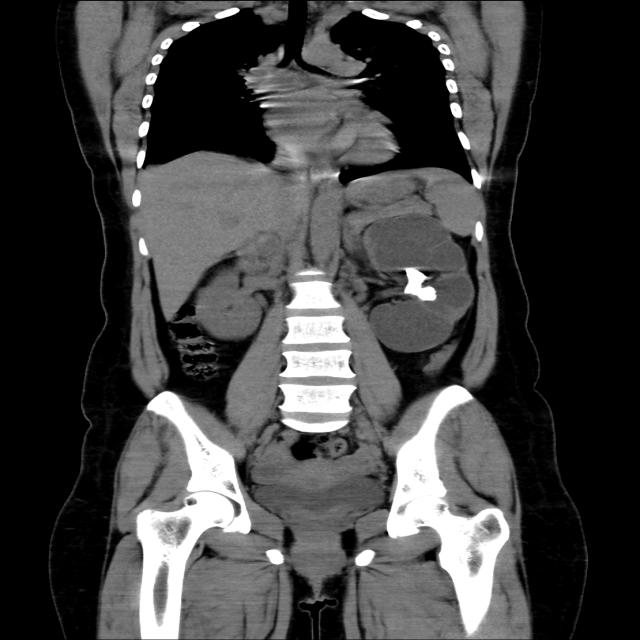kidneystone: (404, 268, 437, 301)
